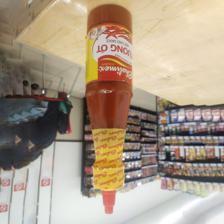Tuong: (82, 1, 136, 217)
